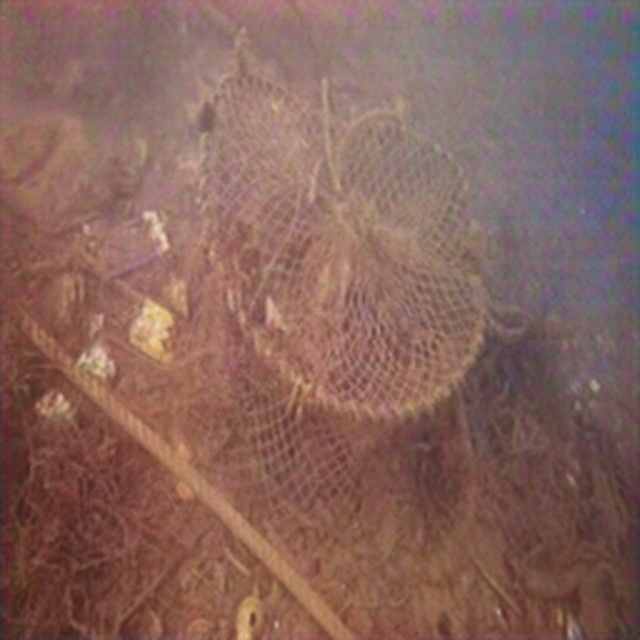mine: (198, 66, 489, 556)
